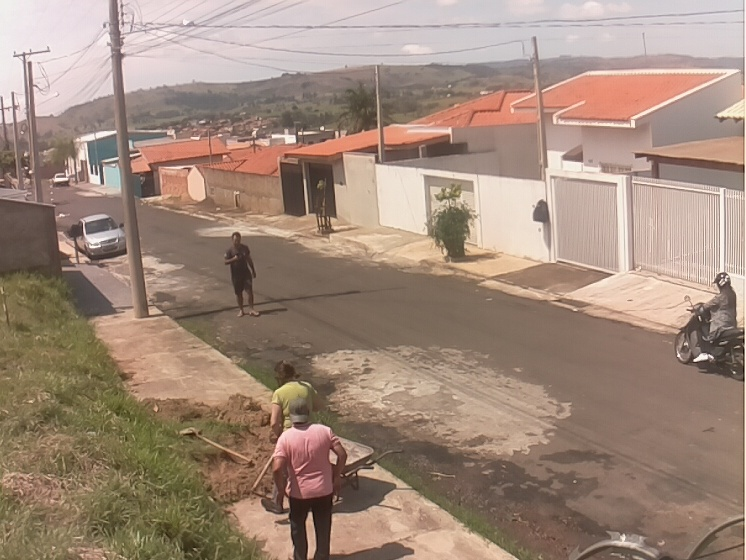person: (271, 397, 348, 560), (269, 360, 328, 433), (692, 272, 738, 363), (223, 231, 261, 320)
